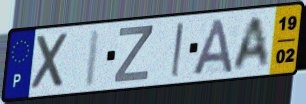A: (190, 17, 235, 77), (230, 14, 271, 73)
I: (82, 27, 103, 89), (169, 20, 185, 79)
X: (30, 30, 72, 93)
Z: (112, 24, 155, 85)
